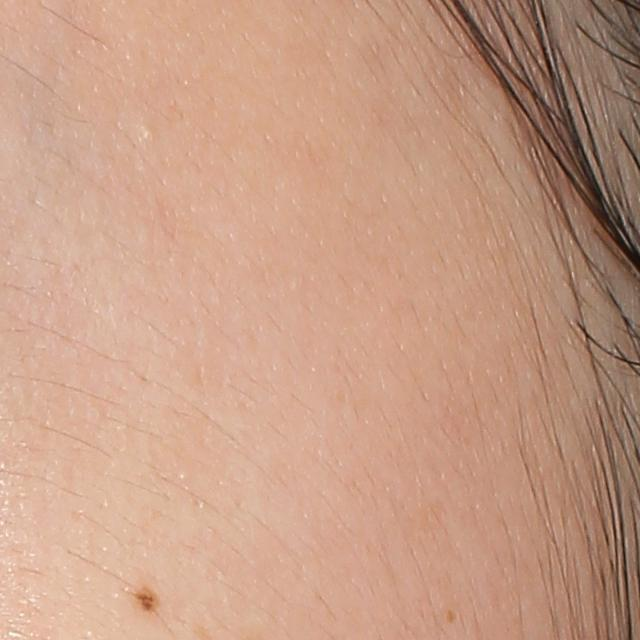comedo: (141, 127, 157, 142)
nevus: (138, 581, 160, 610)
